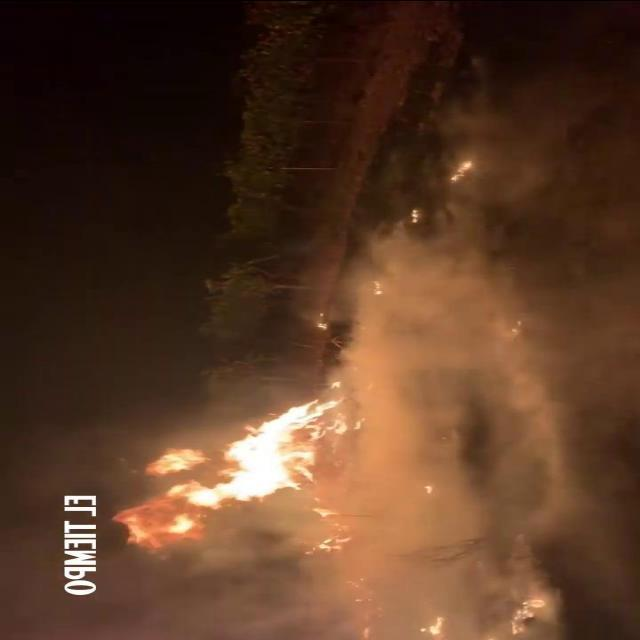Fire: (114, 382, 364, 556), (509, 599, 542, 633), (419, 616, 445, 637), (449, 160, 472, 182), (407, 207, 421, 224), (368, 282, 382, 296), (422, 484, 432, 494), (314, 323, 326, 329)
